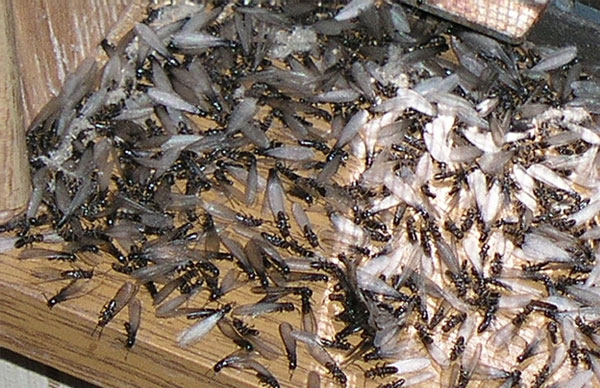flying termite: (145, 83, 210, 126), (132, 19, 180, 73), (181, 298, 230, 344), (234, 316, 282, 360), (261, 165, 291, 235), (483, 308, 527, 354), (305, 339, 348, 386), (428, 221, 462, 279), (102, 278, 133, 332), (275, 320, 302, 375), (232, 295, 296, 317), (238, 151, 261, 207), (358, 112, 379, 171), (217, 203, 264, 229), (459, 344, 483, 388), (250, 284, 312, 301), (242, 357, 275, 388), (195, 213, 217, 259), (126, 297, 144, 352), (424, 288, 450, 326), (297, 295, 318, 337), (452, 317, 471, 361)
